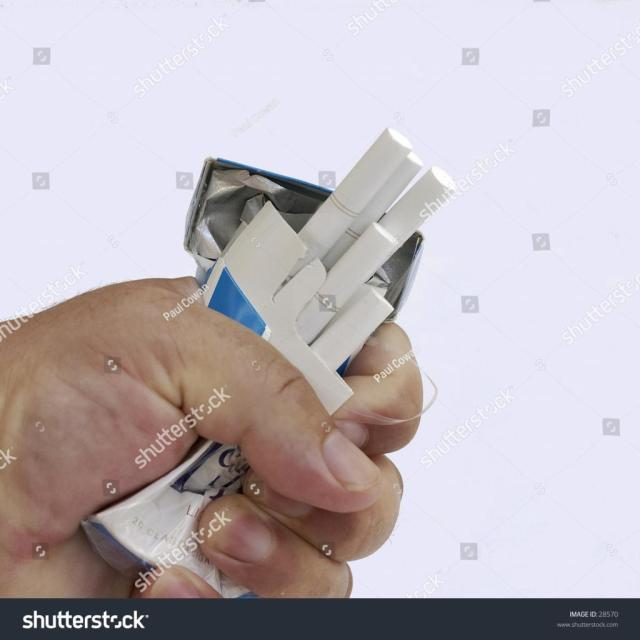smoking: (127, 56, 475, 418), (81, 441, 249, 600)
